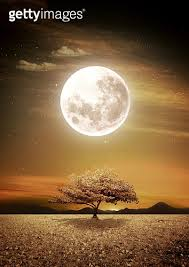sky: (3, 23, 182, 208)
tree: (55, 170, 138, 222)
